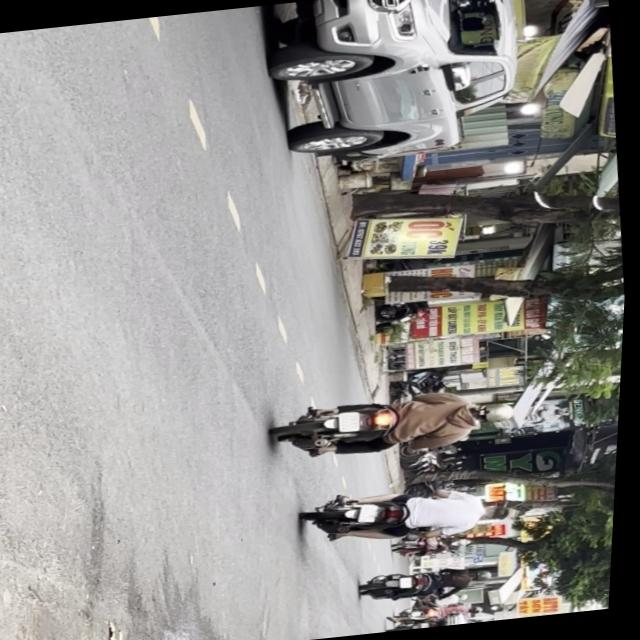helmet: (479, 398, 520, 423)
licenseplate: (274, 378, 525, 464), (305, 473, 524, 549)
motorcyclist: (487, 498, 520, 520)
nohelmet: (345, 410, 368, 430), (364, 502, 386, 521)
